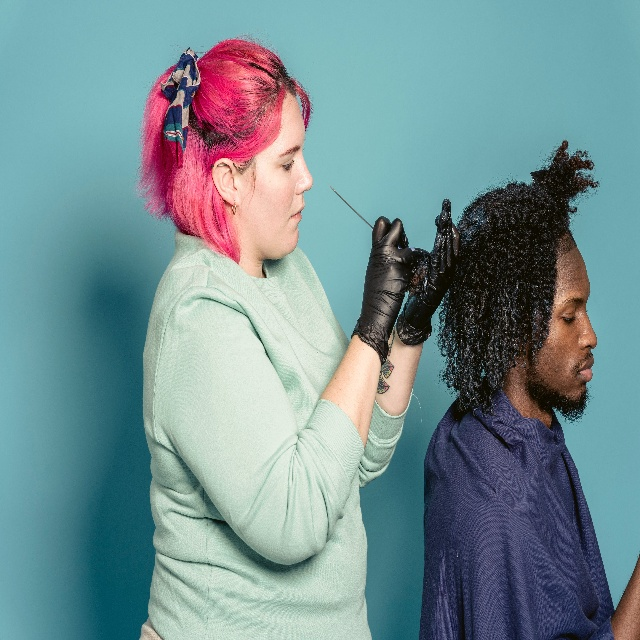Guantes: (350, 215, 416, 363), (396, 197, 460, 345)
